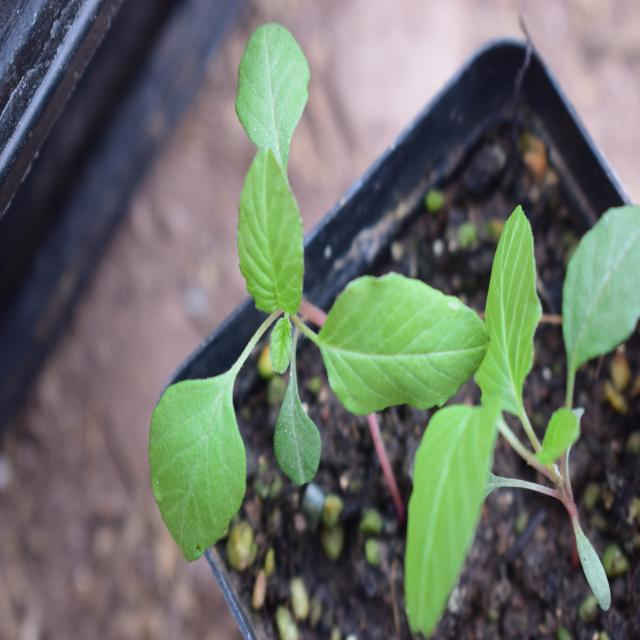pigweed: (146, 45, 466, 552)
